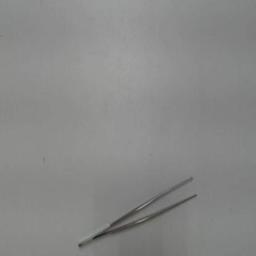Gillies Toothed Dissector: (74, 170, 202, 250)
